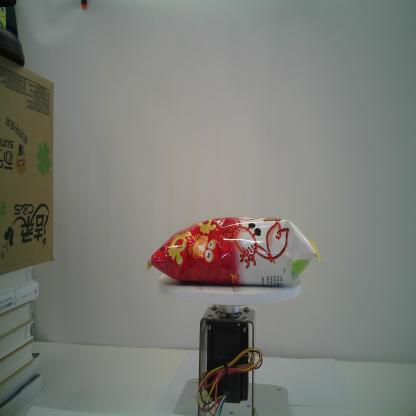Puffed Food: (146, 216, 322, 287)
